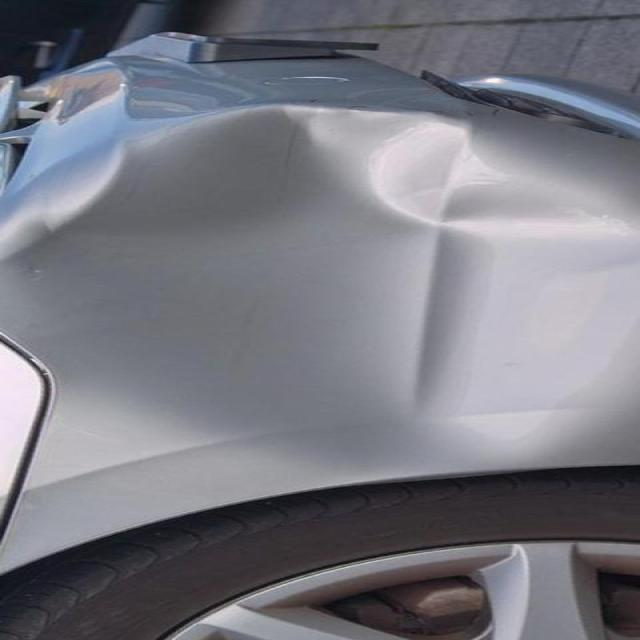dent: (0, 97, 555, 441)
